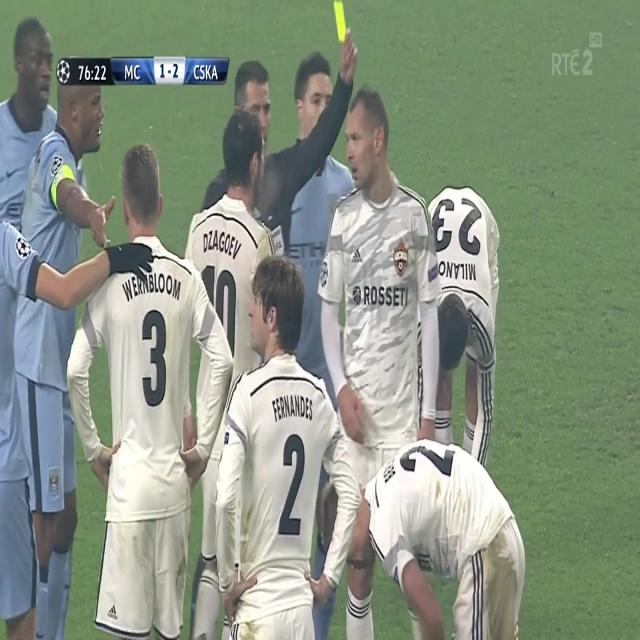Player: (64, 139, 233, 640), (214, 251, 360, 638), (15, 79, 116, 638), (318, 85, 437, 456), (320, 434, 529, 638), (185, 104, 275, 380), (429, 170, 503, 496), (282, 47, 354, 374), (0, 12, 60, 231)
Referee: (196, 26, 356, 242)
